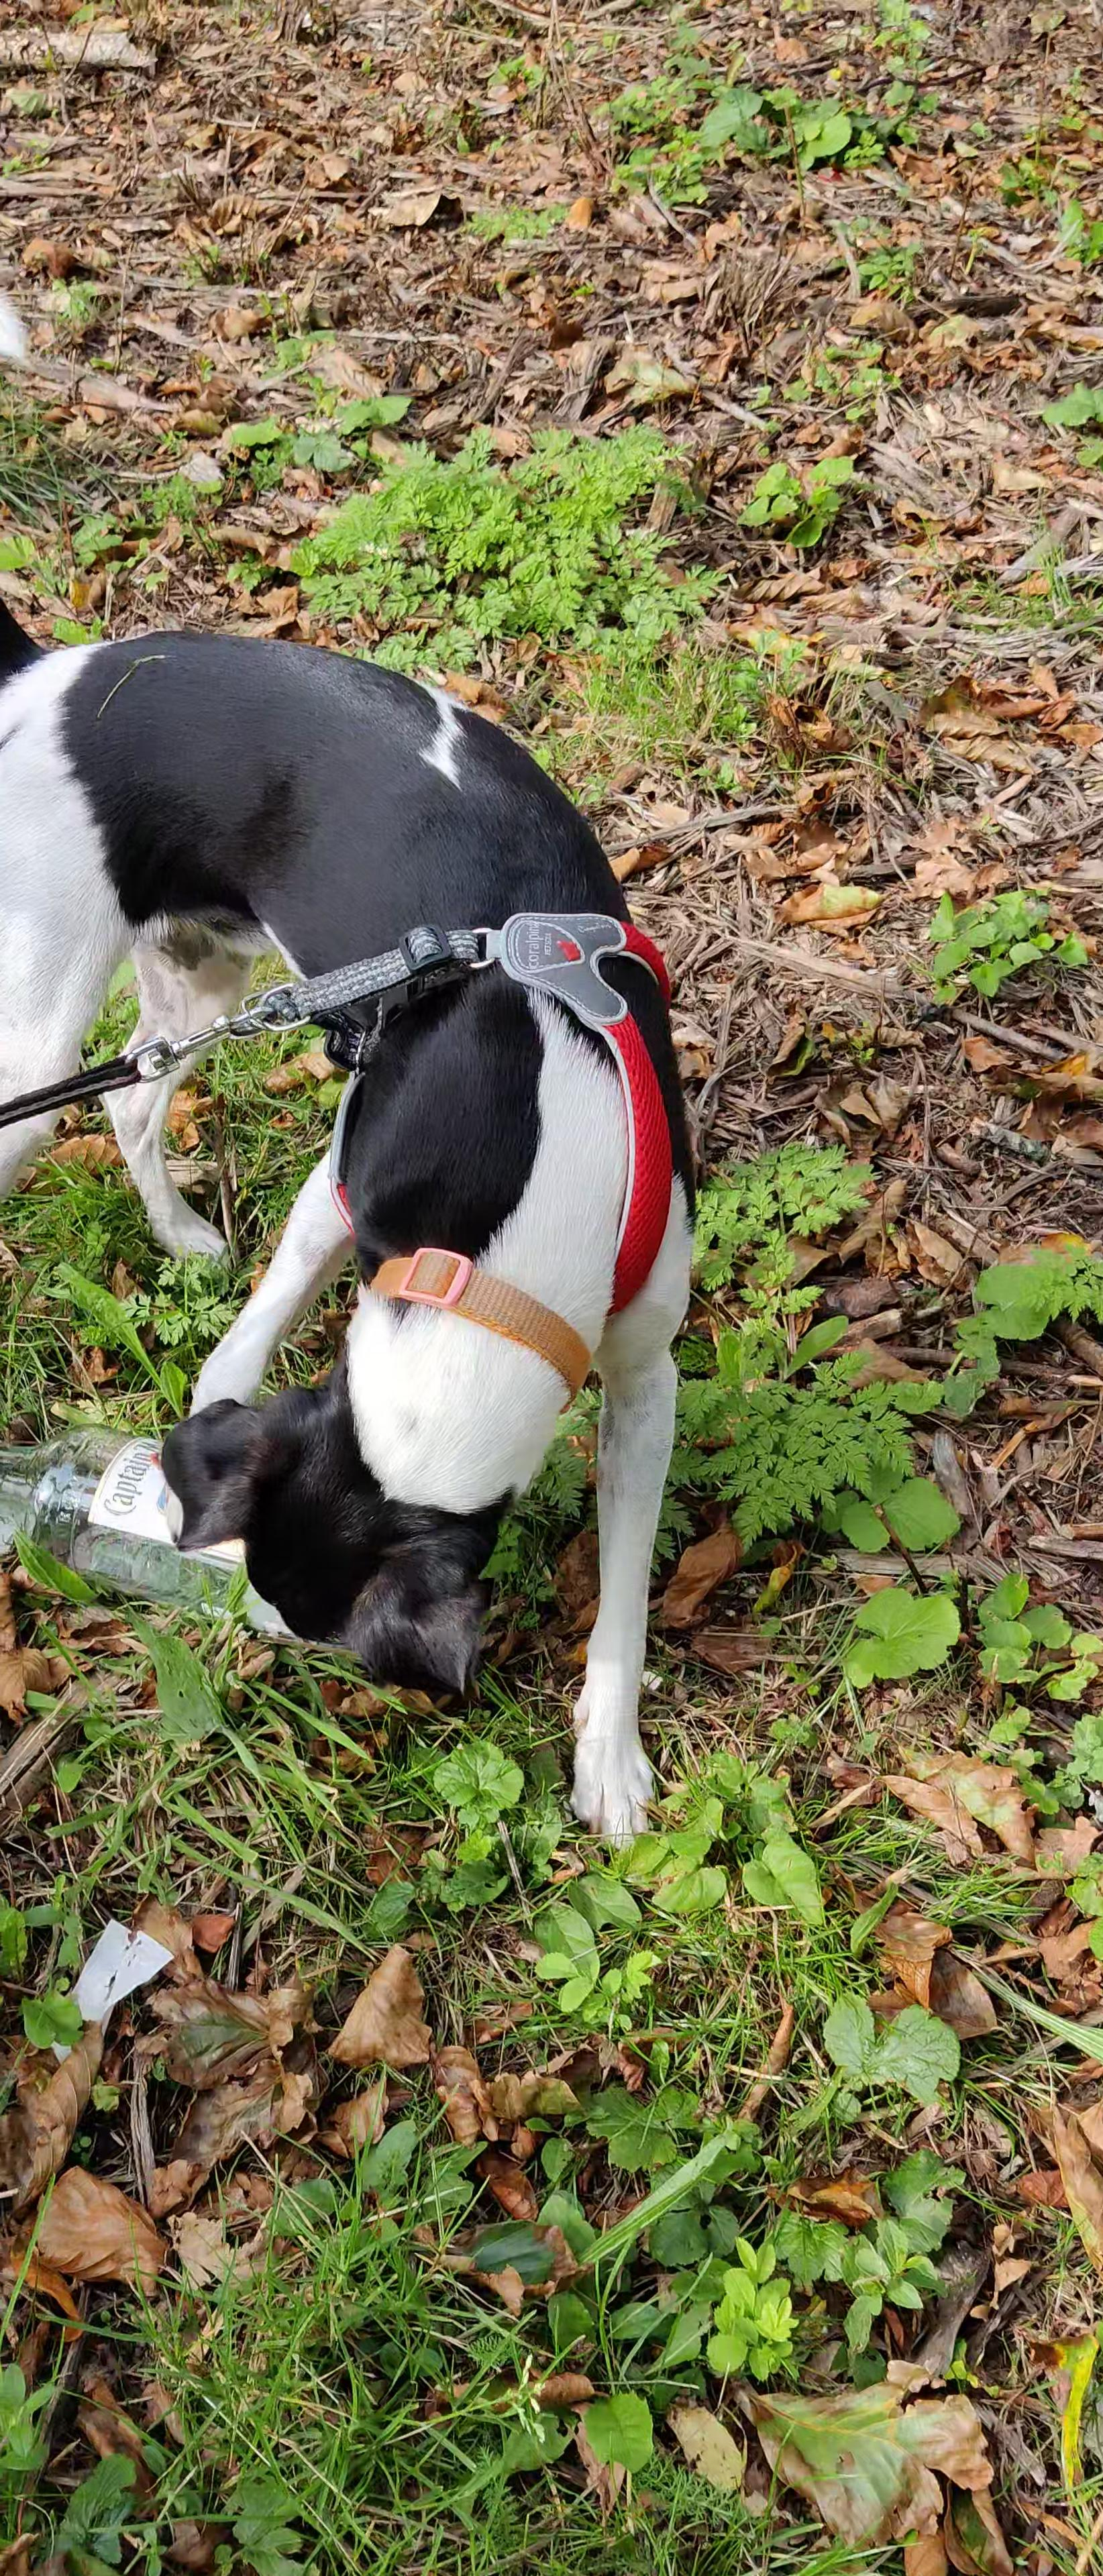Dog: (0, 590, 685, 1848)
